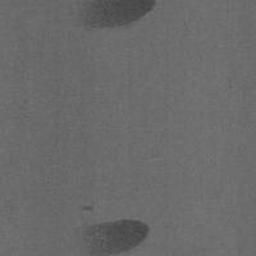Oil spot: (73, 218, 152, 256), (73, 0, 157, 33), (78, 200, 99, 212)
